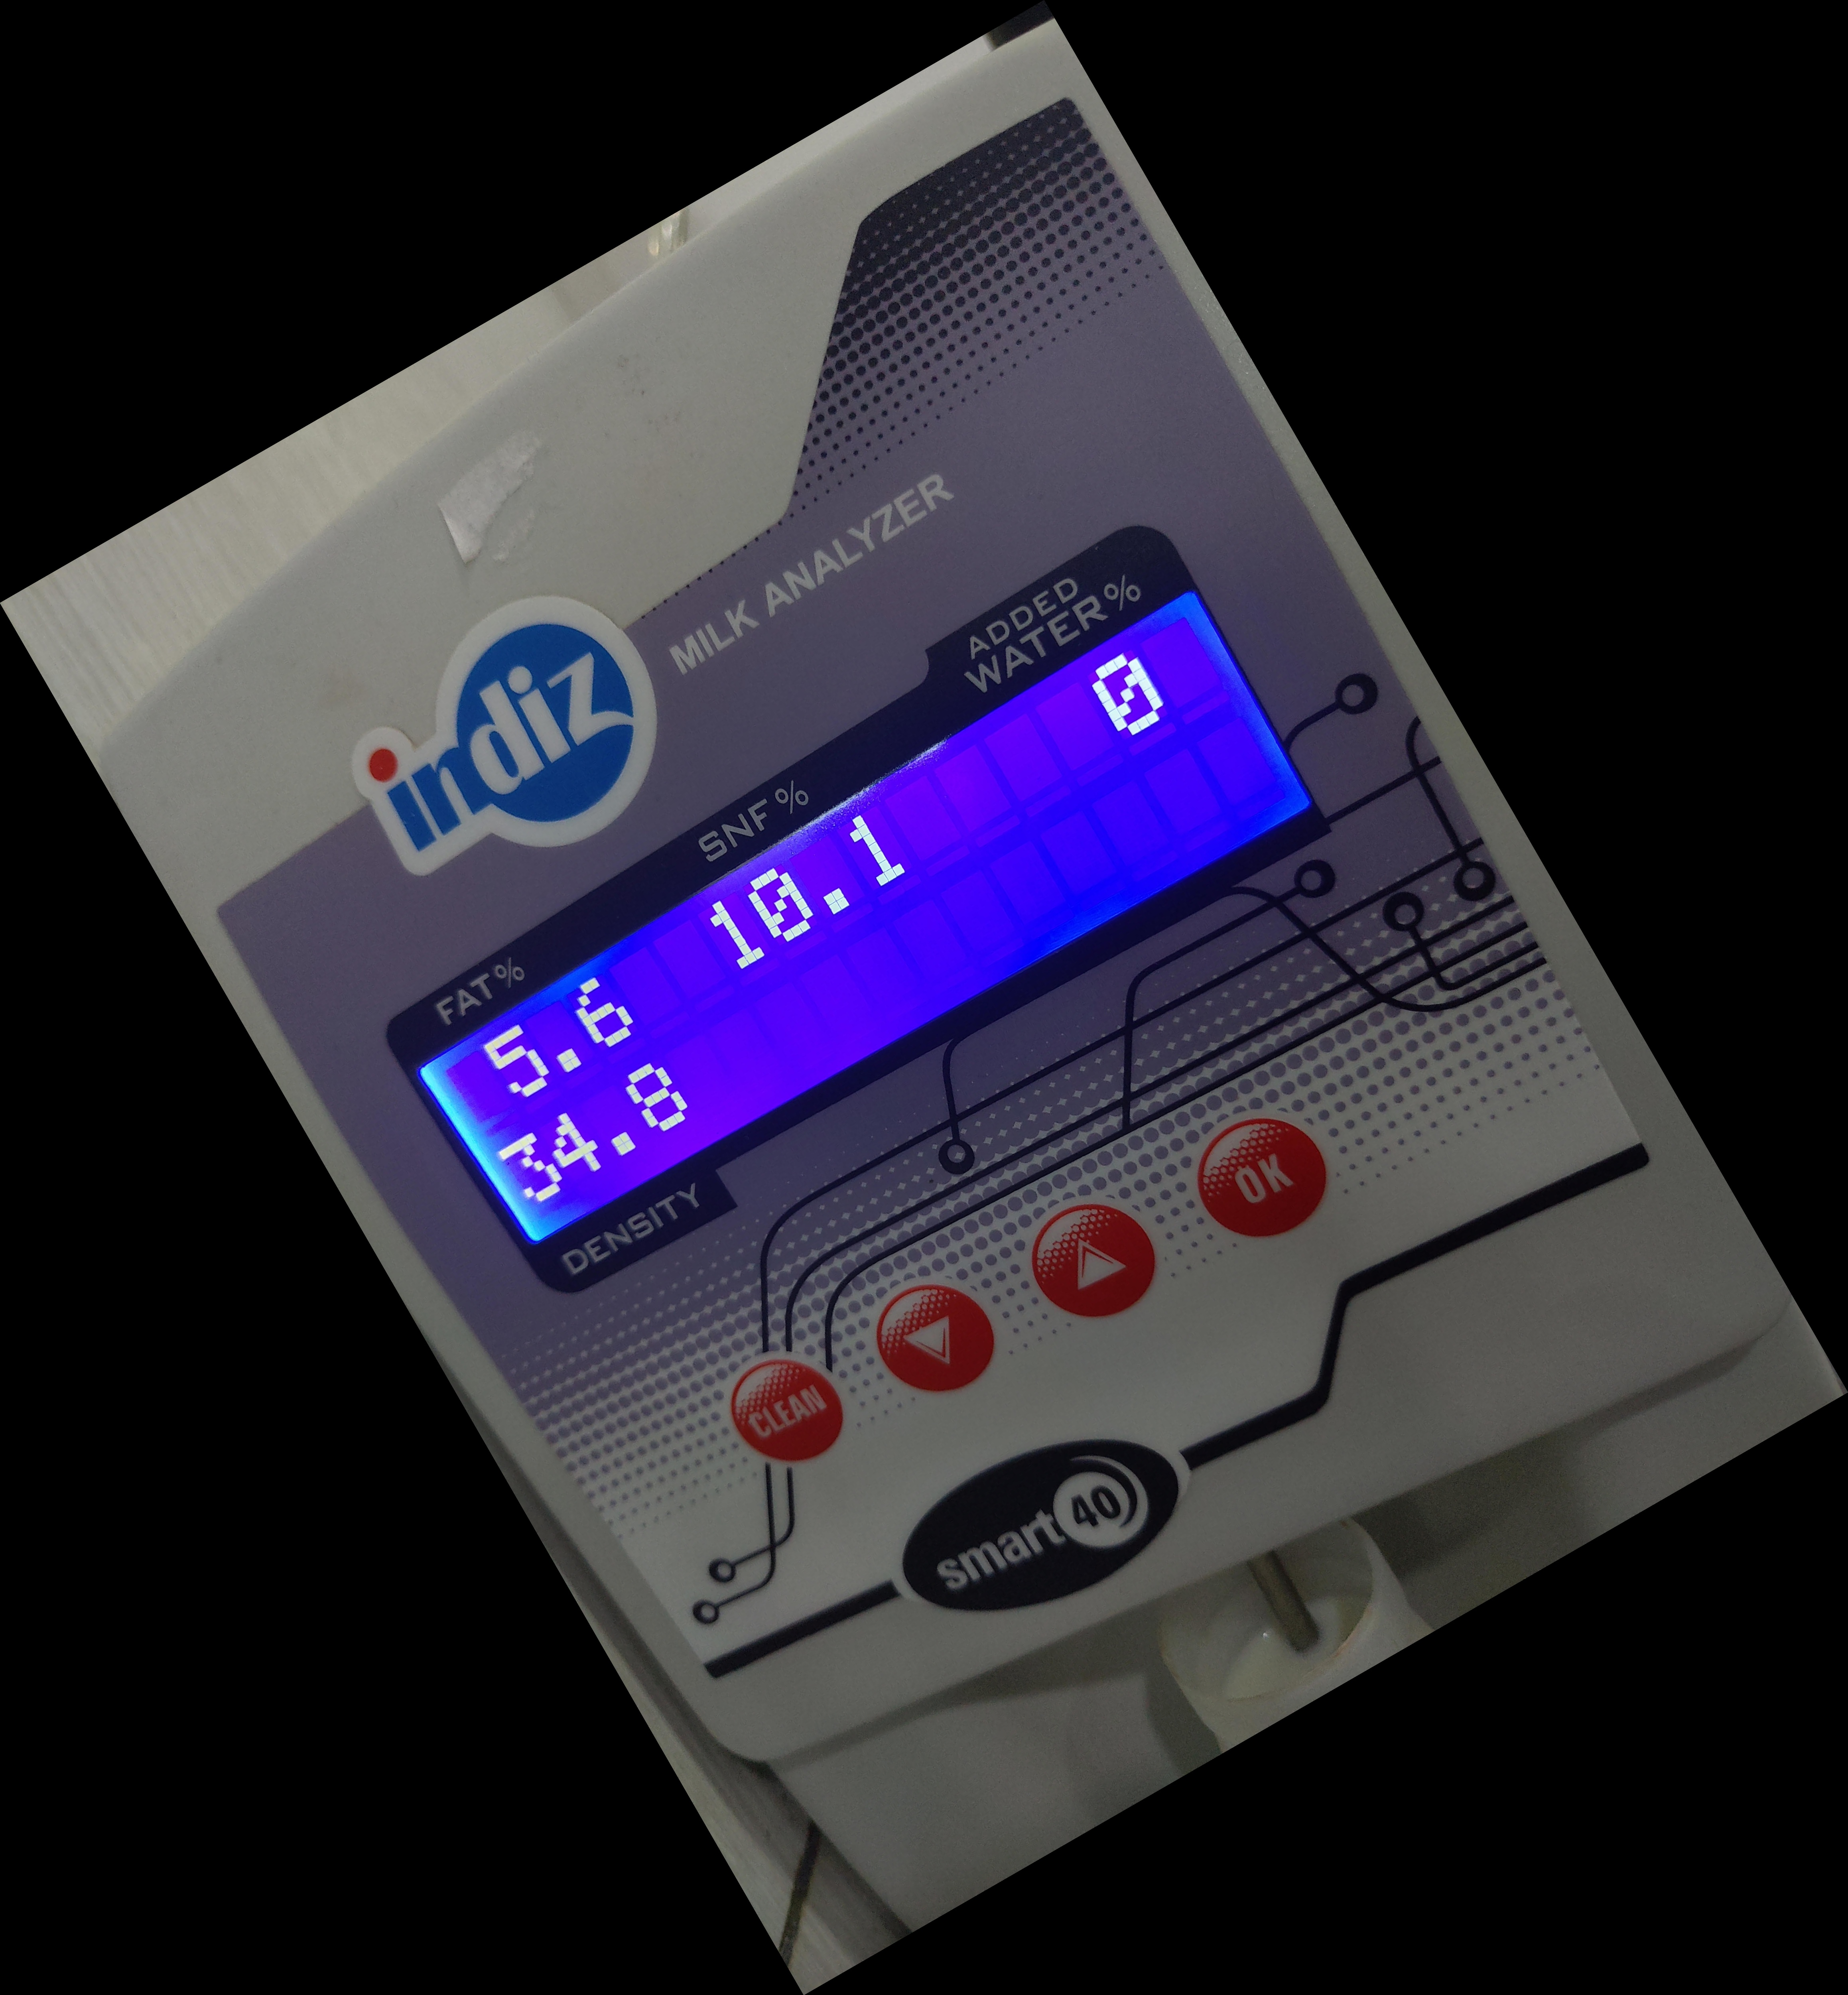lcd: (367, 568, 1333, 1263)
